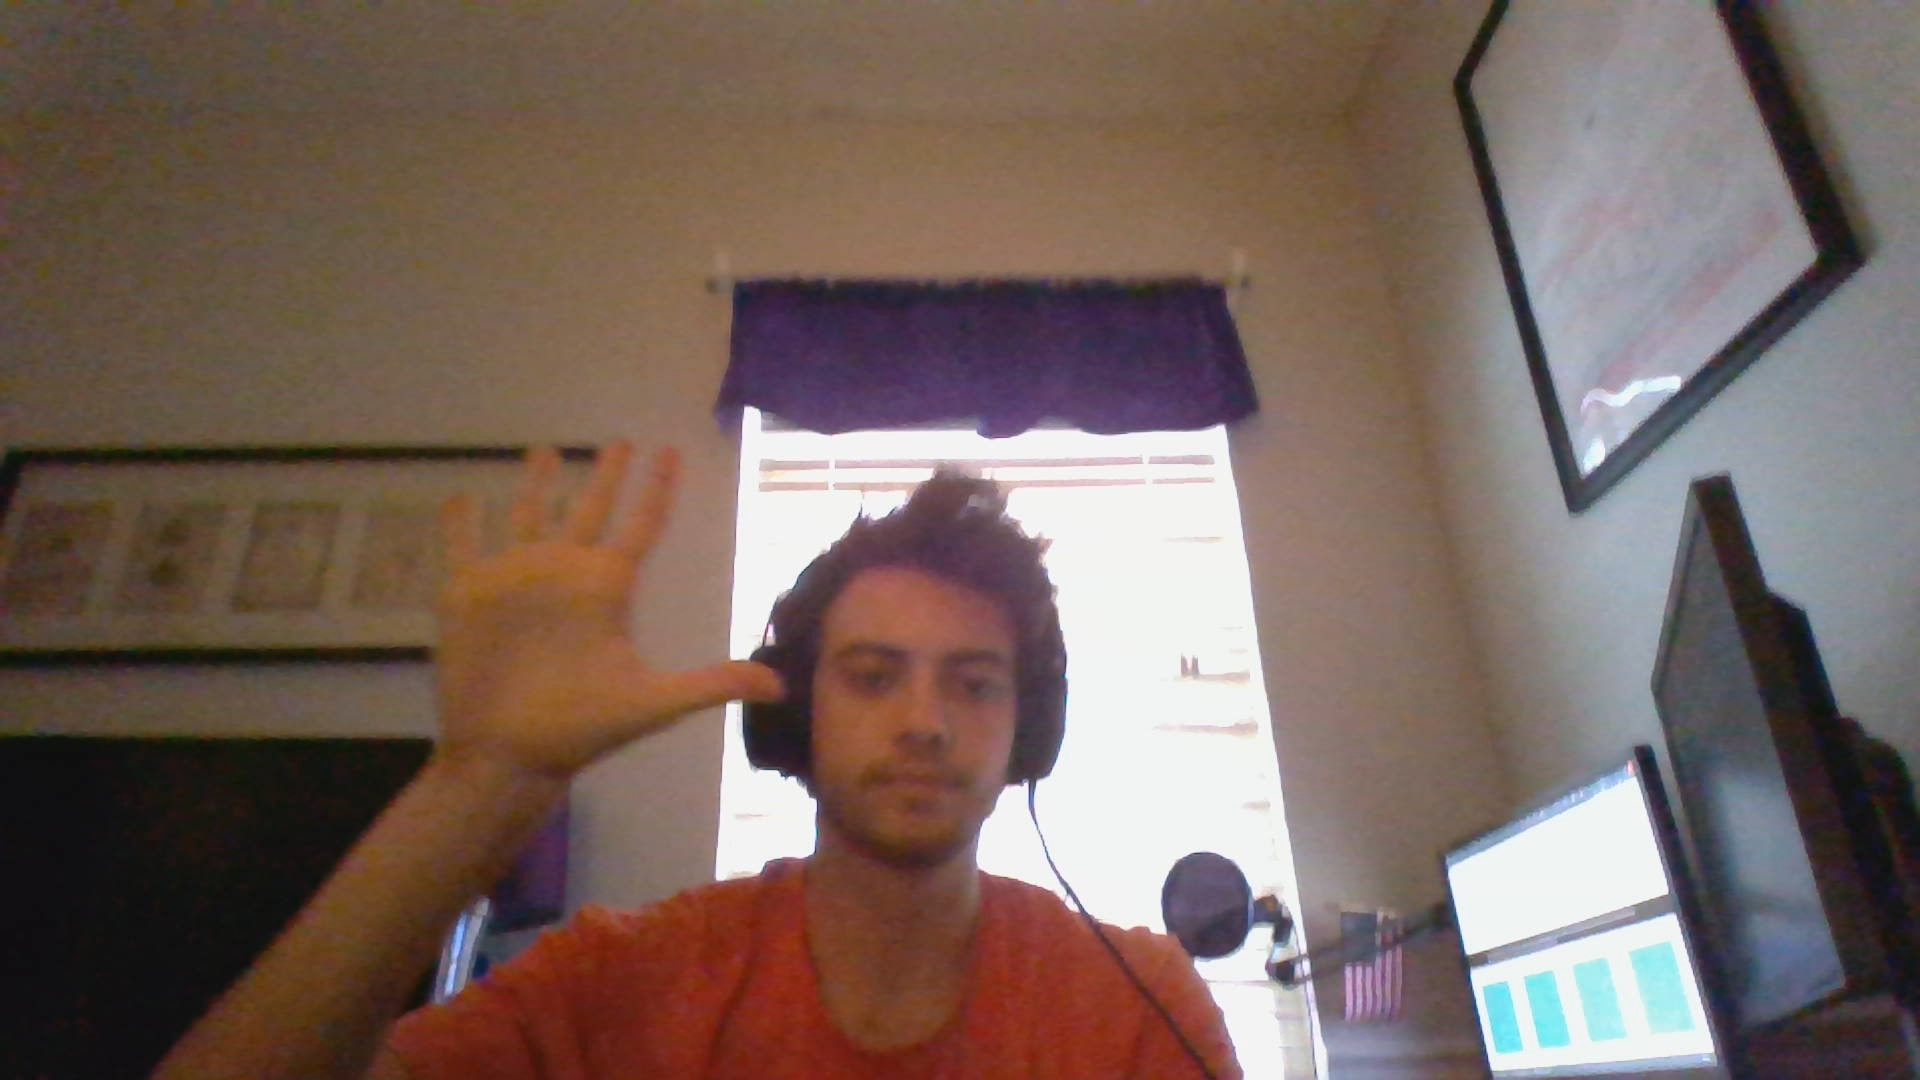Right Palm Up: (410, 425, 785, 787)
